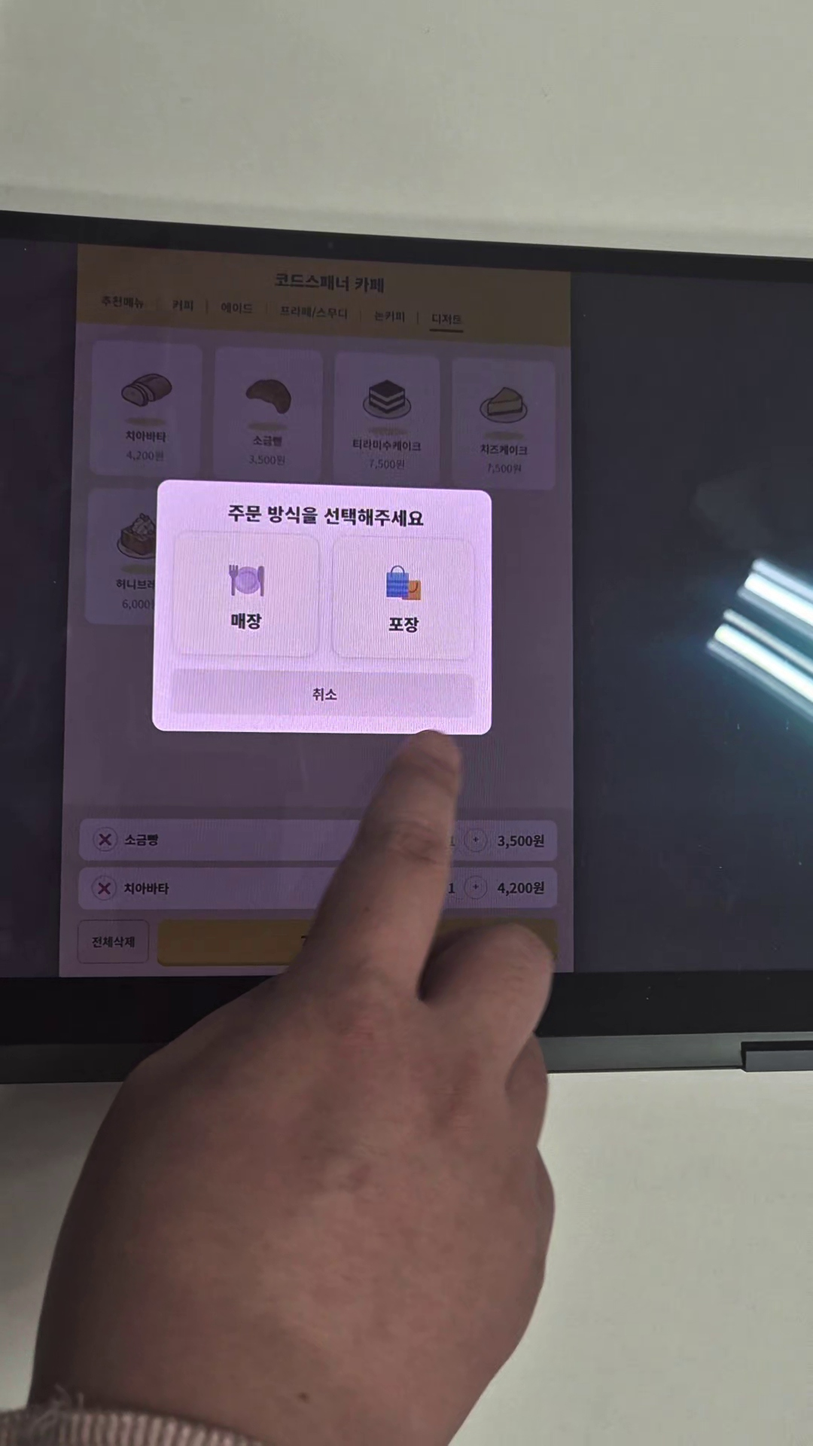action_button: (173, 671, 477, 716)
option_button: (331, 534, 477, 659), (177, 534, 320, 654)
popup_modal: (153, 479, 496, 736)
